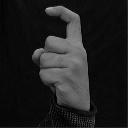hand: (31, 5, 90, 112)
